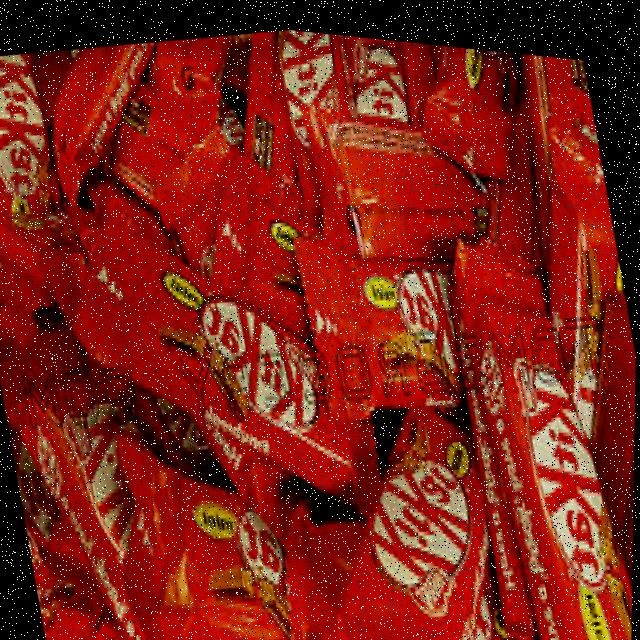kitkat: (43, 165, 395, 562), (463, 218, 638, 640), (280, 374, 523, 640), (0, 50, 62, 239)
